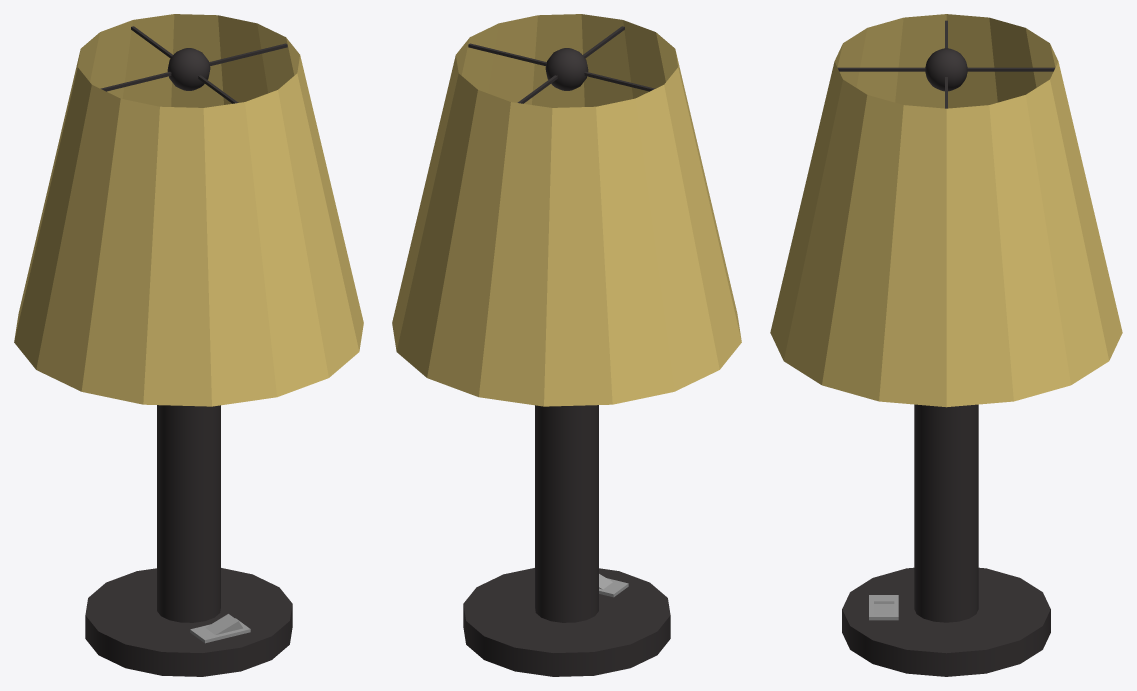
File: TableLamp.fbx
3 renders of one model, left to right at view 1: azimuth 30°, elevation 25°; view 2: azimuth 150°, elevation 25°; view 3: azimuth 270°, elevation 25°, orthographic.
Parts seen in each view (by area): view 1: Veil.001, base.001, Top.001, Support.001, switch; view 2: Veil.001, base.001, Top.001, Support.001; view 3: Veil.001, base.001, Top.001, Support.001.
Part boxes in pixels (box(x1,y1,x2,y2)): Veil.001: box(14, 14, 363, 406); base.001: box(85, 405, 292, 676); Top.001: box(167, 48, 210, 90); Support.001: box(100, 26, 287, 103); switch: box(190, 618, 250, 643); Veil.001: box(392, 14, 741, 406); base.001: box(463, 405, 670, 676); Top.001: box(545, 48, 588, 90); Support.001: box(468, 26, 655, 103); Veil.001: box(770, 14, 1122, 407); base.001: box(842, 404, 1050, 676); Top.001: box(925, 48, 967, 91); Support.001: box(838, 20, 1054, 108).
Size of the model in its own units: 28.01 by 51.09 by 28.01.
